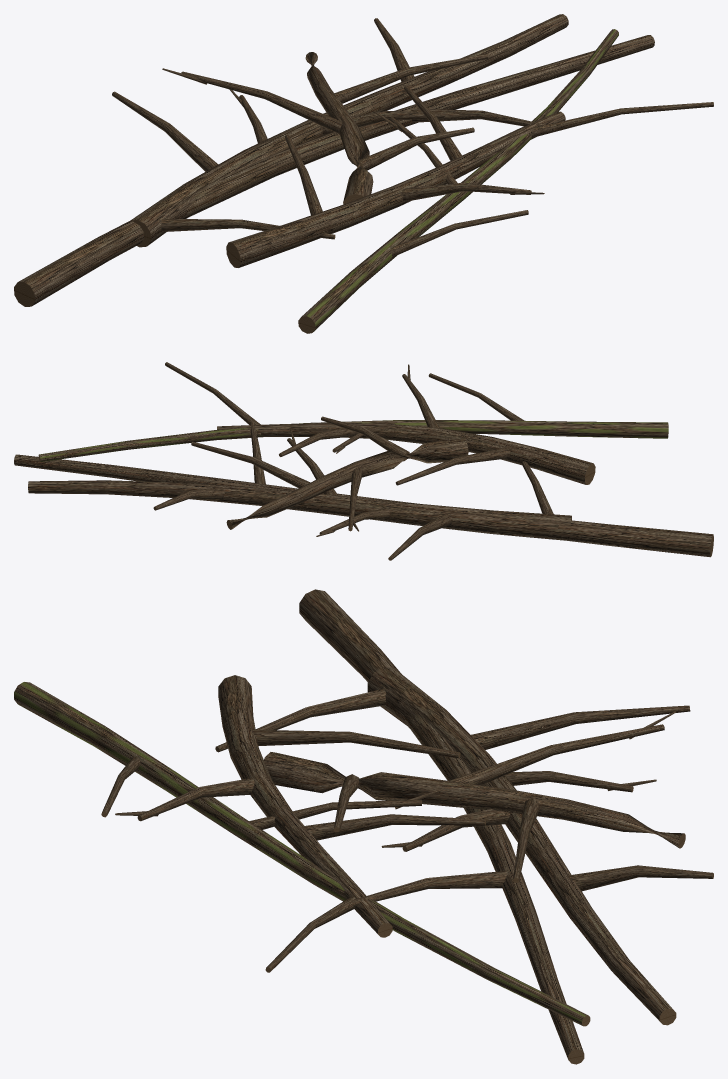
Rendered from twig_cluster.fbx.
The picture shows the model from 3 angles, top to bottom: view 1: azimuth 30°, elevation 25°; view 2: azimuth 150°, elevation 25°; view 3: azimuth 270°, elevation 25°; orthographic projection. The views are drawn at different scales.
Parts seen in each view (by area): view 1: twig_cluster; view 2: twig_cluster; view 3: twig_cluster.
Part boxes in pixels (x1=…): twig_cluster: x1=14, y1=14, x2=713, y2=333; twig_cluster: x1=14, y1=362, x2=713, y2=560; twig_cluster: x1=14, y1=589, x2=713, y2=1064.
Size of what is drawn, in the model's own units: 0.6067 by 0.0525 by 0.395.
1 material, 1 textured.
